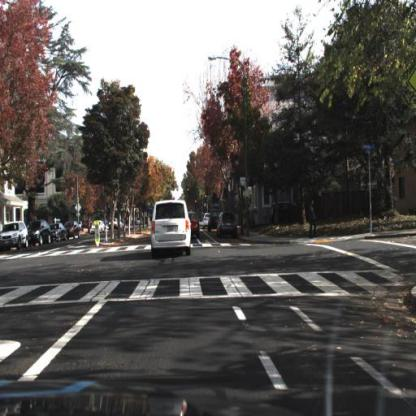car: (151, 198, 195, 257), (1, 221, 30, 257), (25, 219, 53, 250), (216, 207, 239, 240), (268, 200, 297, 226), (184, 209, 202, 241), (48, 221, 68, 247), (63, 220, 81, 241), (90, 220, 107, 236)
pedestrian: (308, 198, 318, 239)
